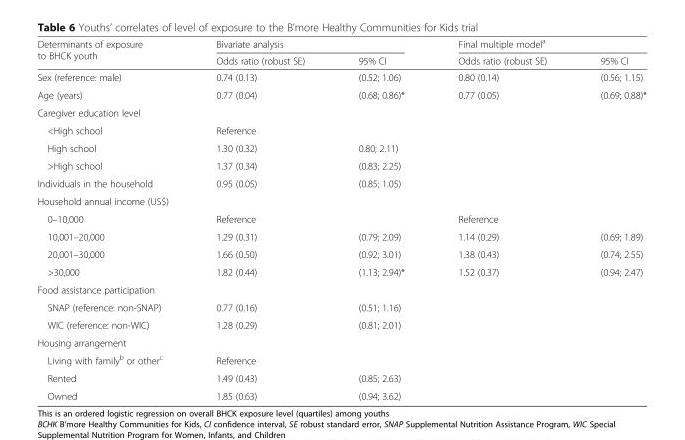table: (36, 36, 646, 401)
table column: (36, 36, 188, 401), (188, 36, 330, 401), (430, 36, 572, 401), (330, 36, 430, 401), (572, 36, 646, 401)
table column header: (36, 36, 646, 68)
table projected row header: (36, 103, 646, 121), (36, 280, 646, 298), (36, 192, 646, 209), (36, 333, 646, 350)
table row: (36, 350, 646, 369), (36, 85, 646, 103), (36, 103, 646, 121), (36, 138, 646, 156), (36, 156, 646, 174), (36, 174, 646, 192), (36, 209, 646, 227), (36, 227, 646, 245), (36, 262, 646, 280), (36, 280, 646, 298), (36, 315, 646, 333), (36, 68, 646, 85), (36, 121, 646, 138), (36, 192, 646, 209), (36, 245, 646, 262), (36, 298, 646, 315), (36, 333, 646, 350), (36, 369, 646, 386), (36, 36, 646, 52), (36, 52, 646, 68), (36, 386, 646, 401)
table spanning cell: (36, 36, 188, 68), (188, 36, 430, 52), (430, 36, 646, 52)
